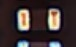COMP: (9, 6, 68, 36)
GAP: (18, 22, 60, 47)
